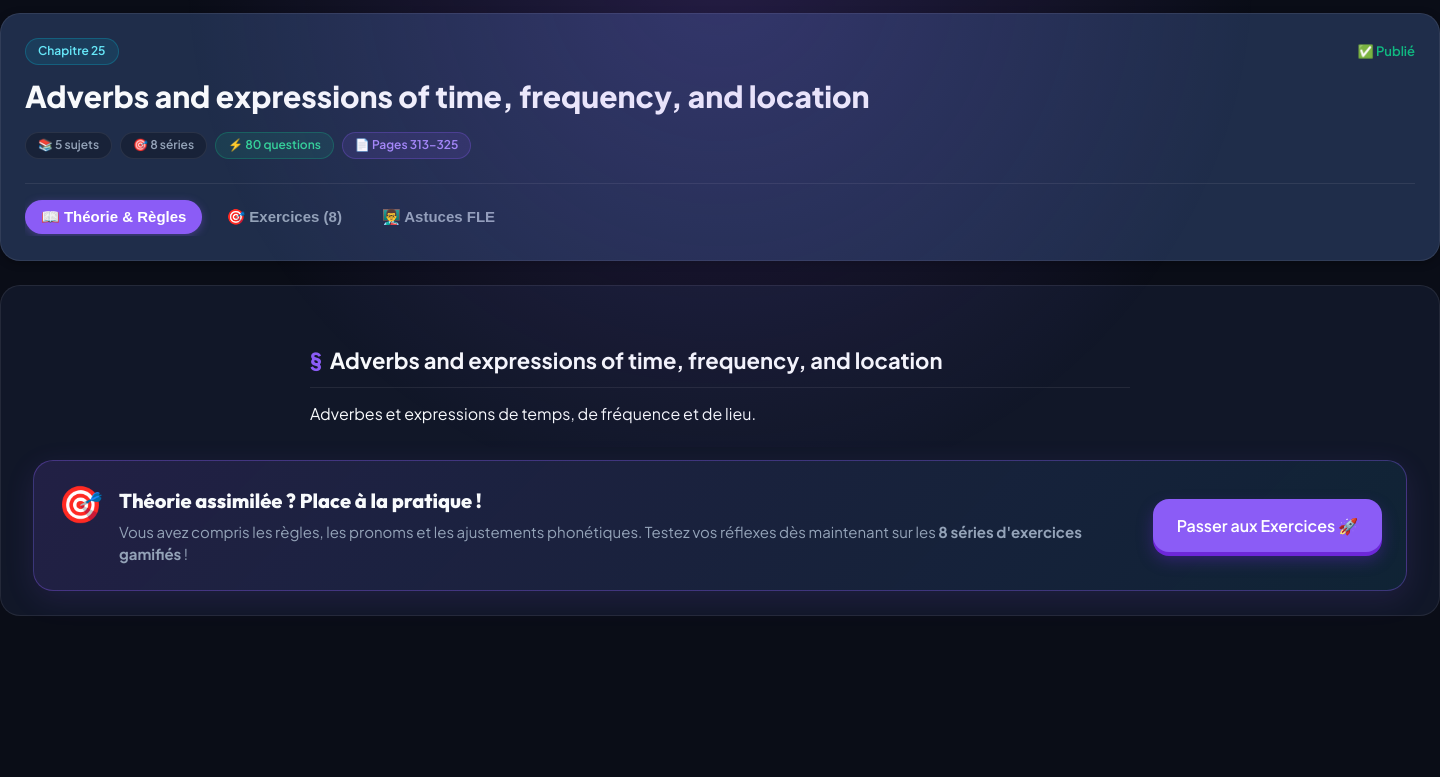
Scenario: ChapterPage Component › affiche la théorie, les 8 séries d exercices et les astuces FLE pour le chapitre 25 (Adverbs and expressions of time, frequency, and location)
Expected: the heading "Adverbs and expressions of time, frequency, and location" is shown, [25,77,870,115]
Expected: the text "Adverbes et expressions de temps, de fréquence et de lieu." is shown, [310,403,756,424]
Note: Passage à l'onglet Exercices (8)
Click the tab "🎯 Exercices (8)".
click(284, 217)  # box [210,200,358,234]
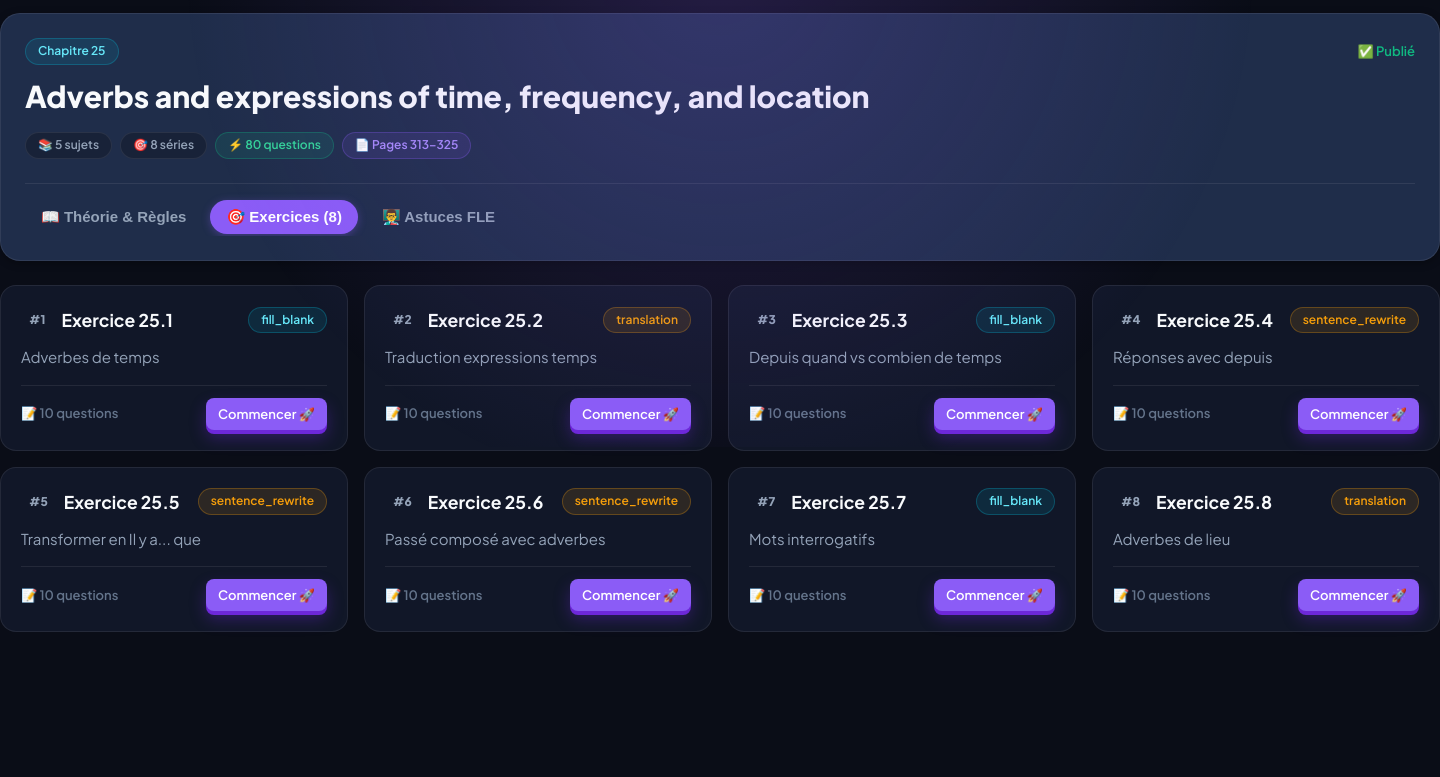
Expected: the heading "Exercice 25.1" is shown, [62,306,173,334]
Expected: the heading "Exercice 25.4" is shown, [1156,306,1273,334]
Expected: the heading "Exercice 25.8" is shown, [1156,488,1272,516]
Note: Passage à l'onglet Astuces FLE
Click the tab "👨‍🏫 Astuces FLE".
click(438, 217)  # box [366,200,511,234]
(page scrolled)
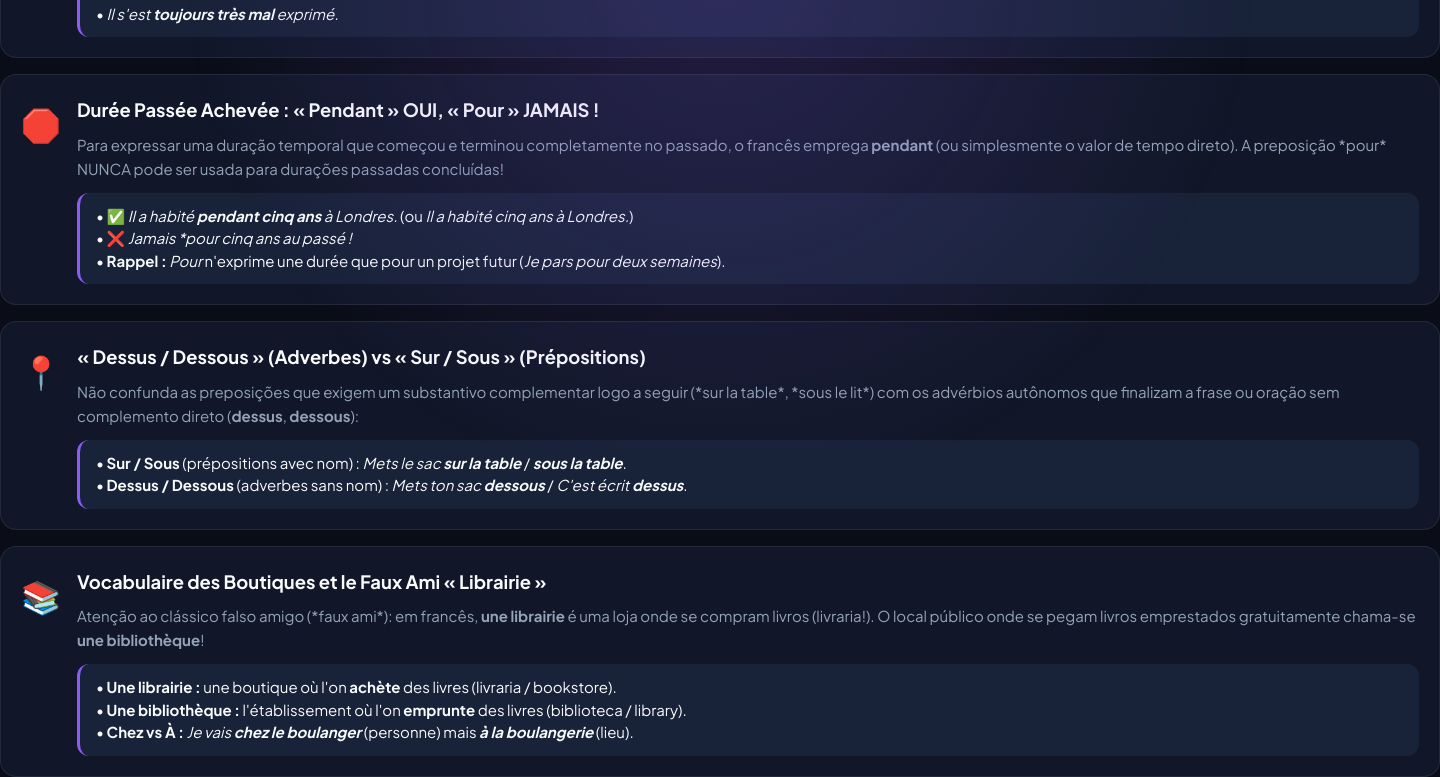
Expected: the heading "Durée Passée Achevée : « Pendant » OUI, « Pour » JAMAIS !" is shown, [77,98,600,121]
Expected: the heading "« Dessus / Dessous » (Adverbes) vs « Sur / Sous » (Prépositions)" is shown, [77,345,646,368]
Expected: the heading "Vocabulaire des Boutiques et le Faux Ami « Librairie »" is shown, [77,570,547,593]
